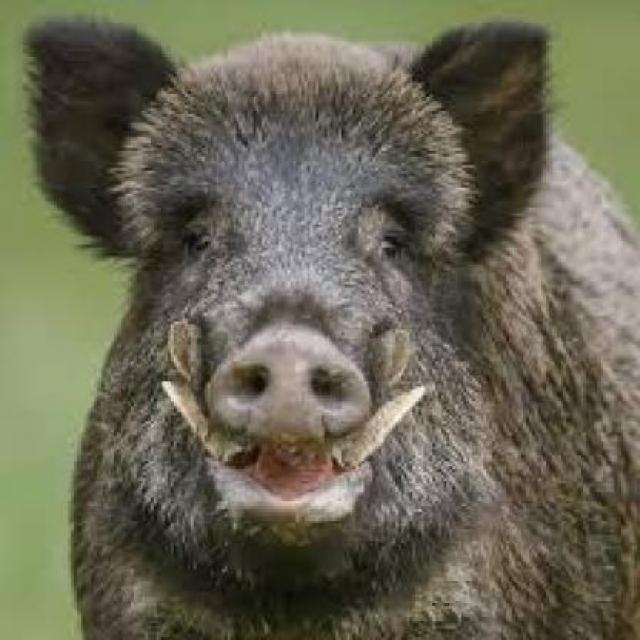wildboar: (20, 7, 640, 640)
